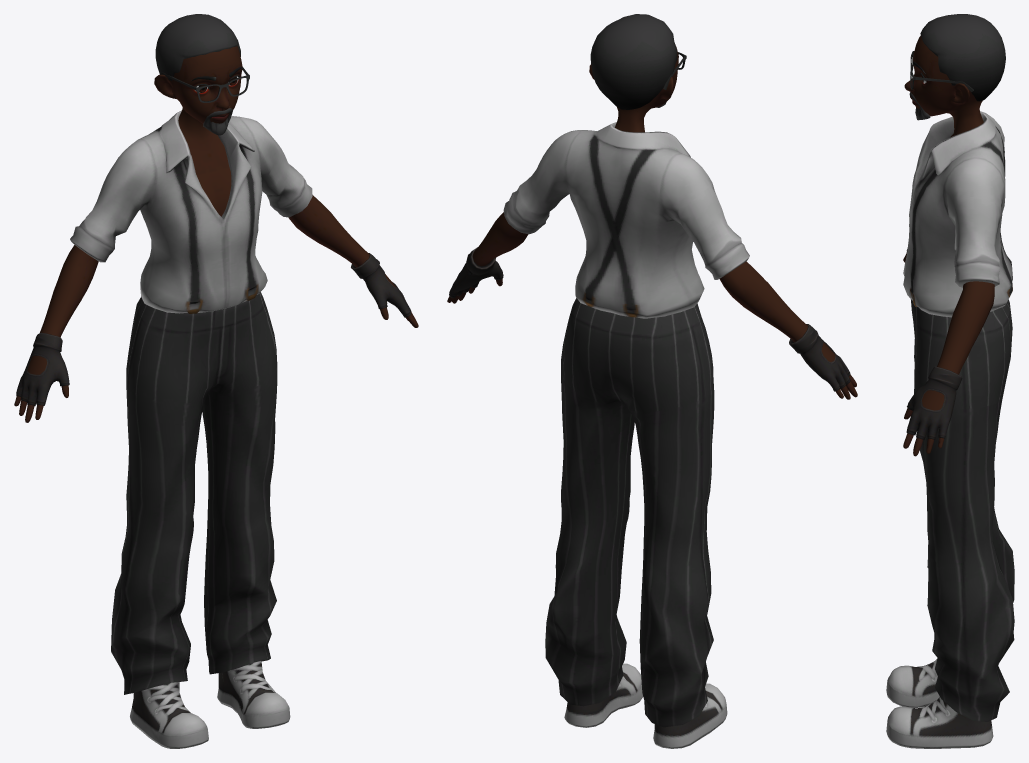
The model's file is StaffDenny_Mesh.obj.
The picture shows the model from 3 angles, left to right: view 1: azimuth 30°, elevation 25°; view 2: azimuth 150°, elevation 25°; view 3: azimuth 270°, elevation 25°; orthographic projection.
Visible parts, largest first — view 1: StaffDenny_Mesh_0; view 2: StaffDenny_Mesh_0; view 3: StaffDenny_Mesh_0.
Boxes of the visible parts, x1,y1,x2,y2 form: StaffDenny_Mesh_0: (14,14,418,748); StaffDenny_Mesh_0: (447,14,857,748); StaffDenny_Mesh_0: (886,14,1014,748).
Size of the model in its own units: 1.06 by 1.79 by 0.2966.
1 material, 1 textured.
